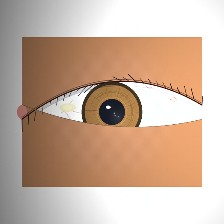pinguecula_lesion: (51, 95, 84, 121)
